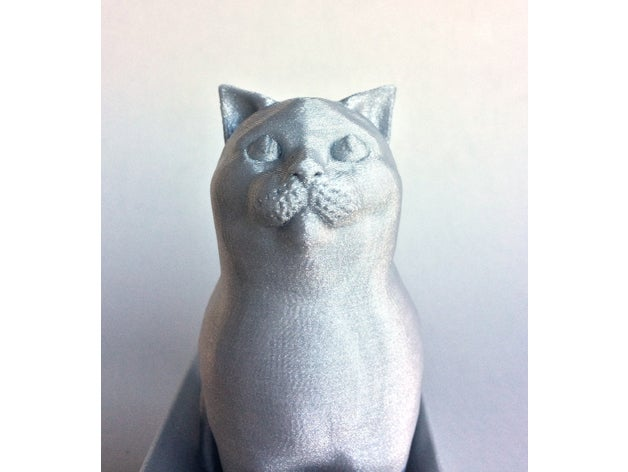Good: (175, 63, 465, 472)
